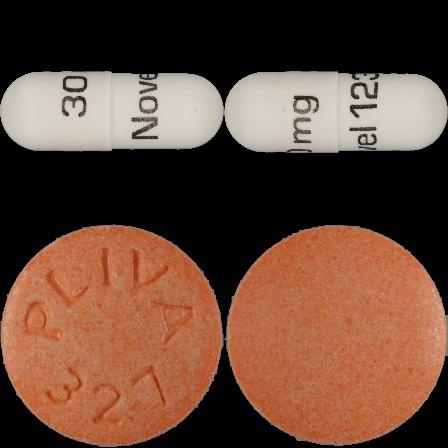63739-125: (0, 0, 224, 224)
